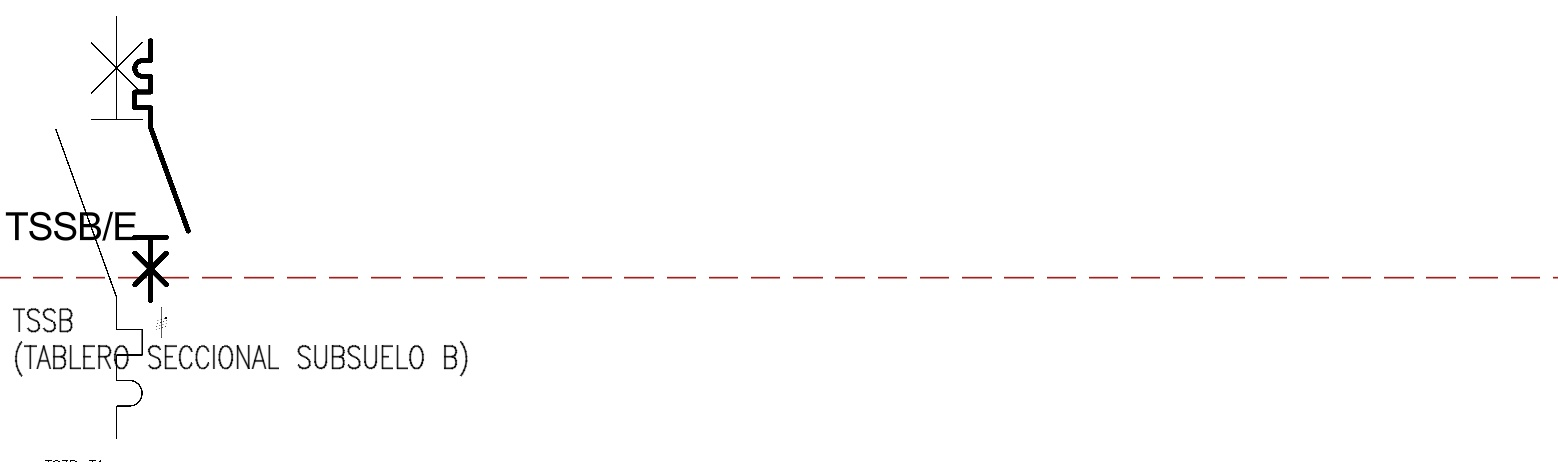interruptor_termomagnetico: (45, 6, 153, 449), (128, 34, 194, 307)
